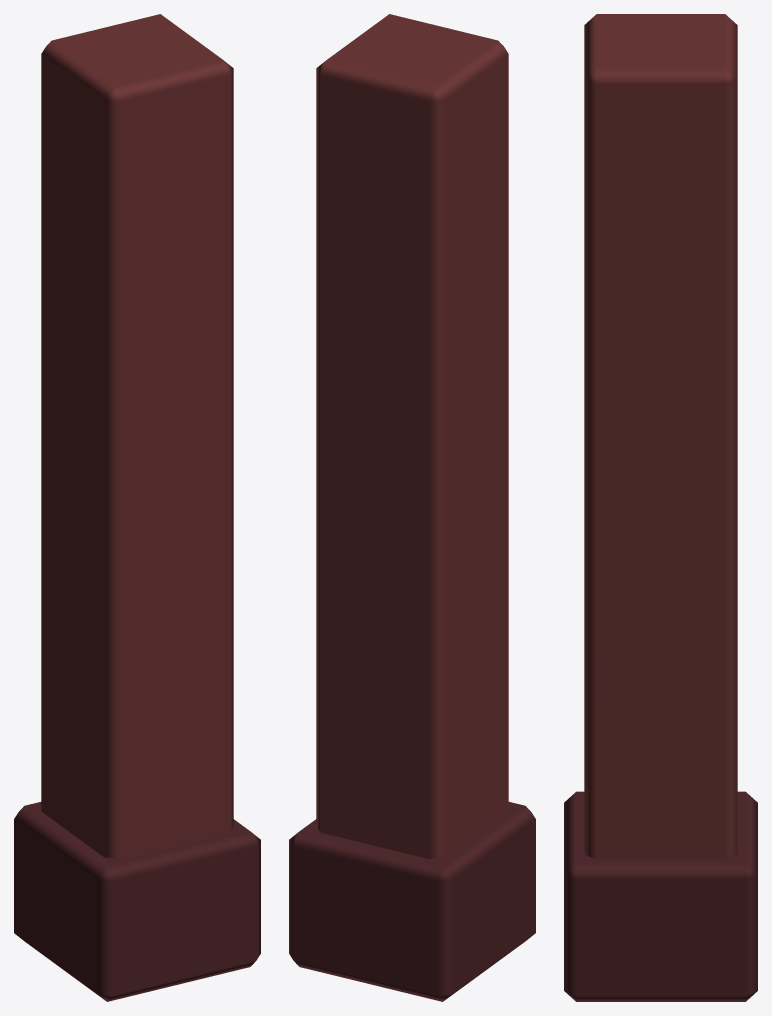
Rendered from living-cave-post-l.1ab8ff54.glb.
3 views of the same model, side by side, from view 1: azimuth 30°, elevation 25°; view 2: azimuth 150°, elevation 25°; view 3: azimuth 270°, elevation 25° (orthographic). The views are drawn at different scales.
Visible parts, largest first — view 1: body; view 2: body; view 3: body.
Boxes of the visible parts, left/top/right/bottom form: body: left=14, top=14, right=260, bottom=1001; body: left=289, top=14, right=535, bottom=1001; body: left=564, top=14, right=757, bottom=1001.
Size of the model in its own units: 0.38 by 2 by 0.38.
